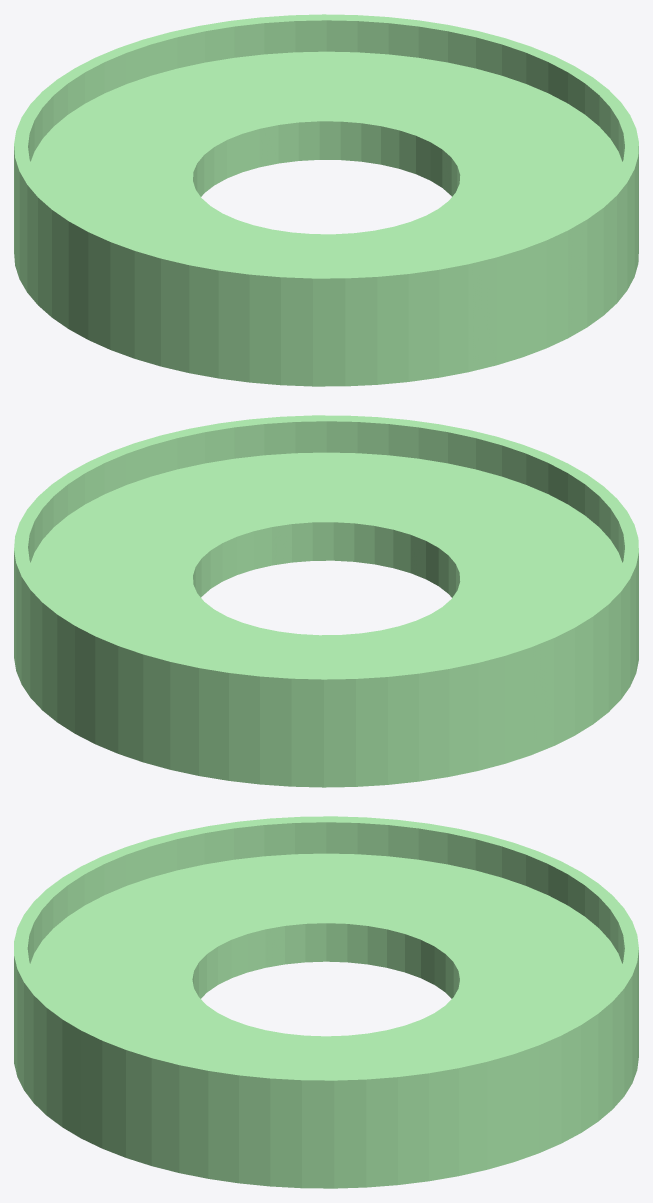
The model's file is palm_link.dae.
3 views of the same model, one above another, from view 1: azimuth 30°, elevation 25°; view 2: azimuth 150°, elevation 25°; view 3: azimuth 270°, elevation 25° (orthographic).
Visible parts, largest first — view 1: palm_link; view 2: palm_link; view 3: palm_link.
Part boxes in pixels (<box>): palm_link: <box>14,14,638,386</box>; palm_link: <box>14,415,638,787</box>; palm_link: <box>14,816,638,1188</box>.
Size of the model in its own units: 0.089 by 0.0889 by 0.017.
